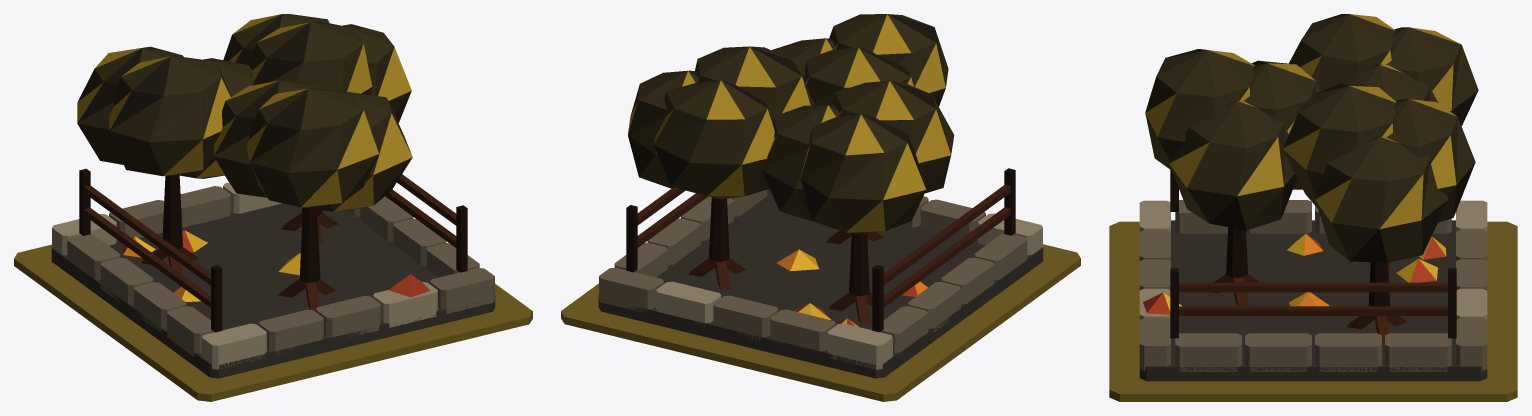
Rendered from grove_t2.glb.
3 views of the same model, side by side, from view 1: azimuth 30°, elevation 25°; view 2: azimuth 150°, elevation 25°; view 3: azimuth 270°, elevation 25° (orthographic). The views are drawn at different scales.
Visible parts, largest first — view 1: MMR | grove | T02 Architecture.001, MMR | grove | Tier 02 Ground.001, MMR | grove | T02 Autumn Dressing.001; view 2: MMR | grove | T02 Architecture.001, MMR | grove | Tier 02 Ground.001, MMR | grove | T02 Autumn Dressing.001; view 3: MMR | grove | T02 Architecture.001, MMR | grove | Tier 02 Ground.001, MMR | grove | T02 Autumn Dressing.001.
Part boxes in pixels (x1=…): MMR | grove | T02 Architecture.001: x1=51, y1=14, x2=495, y2=378; MMR | grove | Tier 02 Ground.001: x1=14, y1=244, x2=532, y2=401; MMR | grove | T02 Autumn Dressing.001: x1=121, y1=230, x2=430, y2=301; MMR | grove | T02 Architecture.001: x1=598, y1=14, x2=1043, y2=378; MMR | grove | Tier 02 Ground.001: x1=561, y1=244, x2=1080, y2=401; MMR | grove | T02 Autumn Dressing.001: x1=777, y1=249, x2=927, y2=326; MMR | grove | T02 Architecture.001: x1=1139, y1=14, x2=1487, y2=381; MMR | grove | Tier 02 Ground.001: x1=1109, y1=221, x2=1517, y2=401; MMR | grove | T02 Autumn Dressing.001: x1=1143, y1=234, x2=1446, y2=314.
Size of the model in its own units: 2.35 by 1.64 by 2.35.
1 material, 1 textured.
